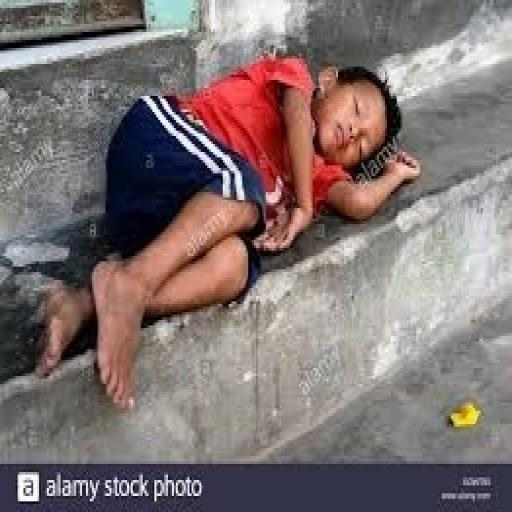sleeping: (31, 48, 422, 413)
